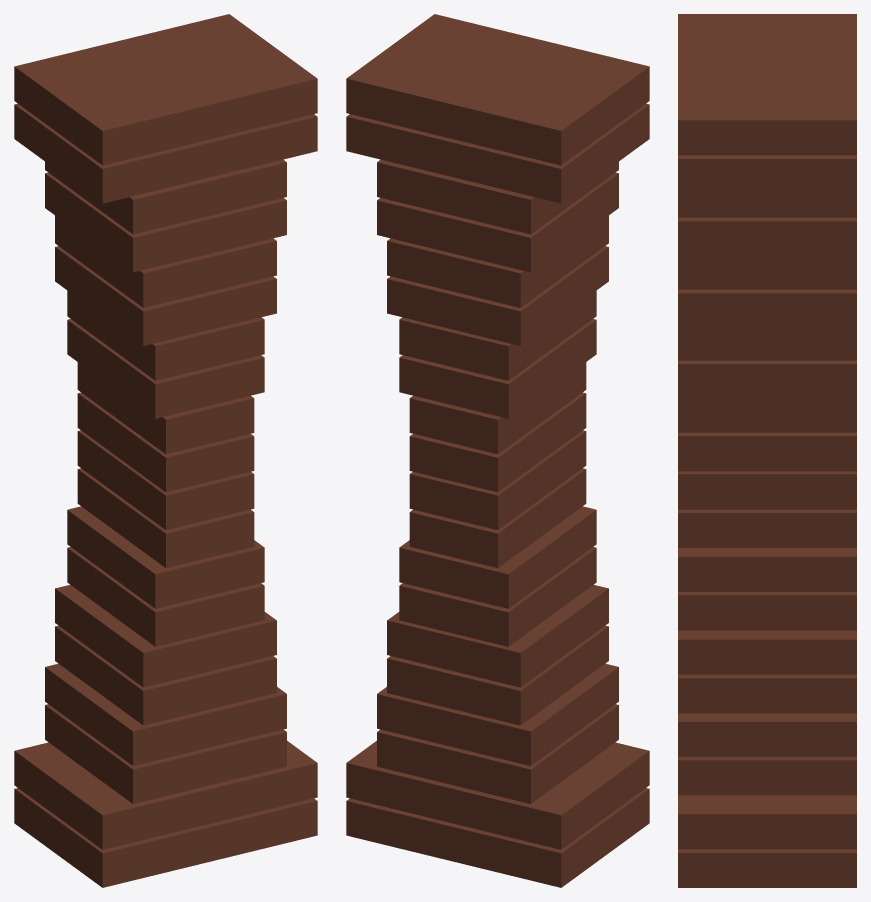
File: Tugla.fbx
3 renders of one model, left to right at view 1: azimuth 30°, elevation 25°; view 2: azimuth 150°, elevation 25°; view 3: azimuth 270°, elevation 25°, orthographic.
Visible parts, largest first — view 1: Cube.001, Cube.019, Cube.020, Cube.002, Cube.017, Cube.015, Cube.004, Cube.018, Cube.006, Cube.016, Cube.013, Cube.005 (+8 smaller); view 2: Cube.001, Cube.019, Cube.020, Cube.002, Cube.017, Cube.015, Cube.004, Cube.018, Cube.006, Cube.016, Cube.013, Cube.005 (+8 smaller); view 3: Cube.001, Cube.019, Cube.015, Cube.013, Cube.017, Cube.004, Cube.006, Cube.008, Cube.010, Cube.016, Cube.002, Cube.011 (+8 smaller).
Boxes of the visible parts, <box> form: Cube.001: <box>14,14,317,165</box>; Cube.019: <box>14,741,317,849</box>; Cube.020: <box>14,788,317,887</box>; Cube.002: <box>14,103,317,203</box>; Cube.017: <box>45,663,286,765</box>; Cube.015: <box>55,584,276,687</box>; Cube.004: <box>45,172,286,272</box>; Cube.018: <box>45,704,286,803</box>; Cube.006: <box>55,246,276,345</box>; Cube.016: <box>55,625,276,725</box>; Cube.013: <box>67,506,264,608</box>; Cube.005: <box>55,215,276,307</box>; Cube.001: <box>346,14,649,165</box>; Cube.019: <box>346,741,649,849</box>; Cube.020: <box>346,788,649,887</box>; Cube.002: <box>346,103,649,203</box>; Cube.017: <box>377,663,618,765</box>; Cube.015: <box>387,584,608,687</box>; Cube.004: <box>377,172,618,272</box>; Cube.018: <box>377,704,618,803</box>; Cube.006: <box>387,246,608,345</box>; Cube.016: <box>387,625,608,725</box>; Cube.013: <box>399,506,596,608</box>; Cube.005: <box>387,215,608,307</box>; Cube.001: <box>678,14,856,155</box>; Cube.019: <box>678,795,856,849</box>; Cube.015: <box>678,630,856,674</box>; Cube.013: <box>678,548,856,591</box>; Cube.017: <box>678,713,856,756</box>; Cube.004: <box>678,217,856,256</box>; Cube.006: <box>678,289,856,328</box>; Cube.008: <box>678,360,856,399</box>; Cube.010: <box>678,432,856,471</box>; Cube.016: <box>678,674,856,713</box>; Cube.002: <box>678,155,856,193</box>; Cube.011: <box>678,471,856,509</box>.
Size of the model in its own units: 240 by 808 by 171.
